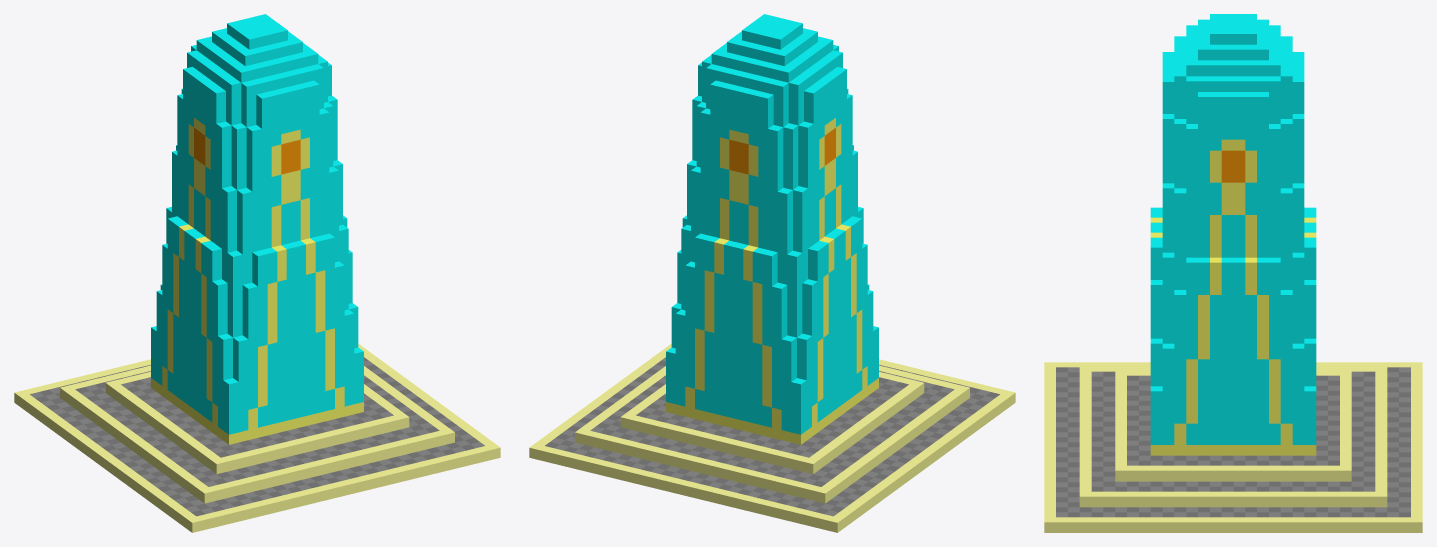
File: core.obj
3 renders of one model, left to right at view 1: azimuth 30°, elevation 25°; view 2: azimuth 150°, elevation 25°; view 3: azimuth 270°, elevation 25°, orthographic. The views are drawn at different scales.
Bounding box in the file's own units: 3.2 × 4 × 3.2.
1 material, 1 textured.
